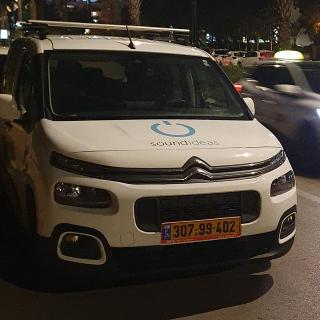LicensePlate: (169, 217, 240, 240)
